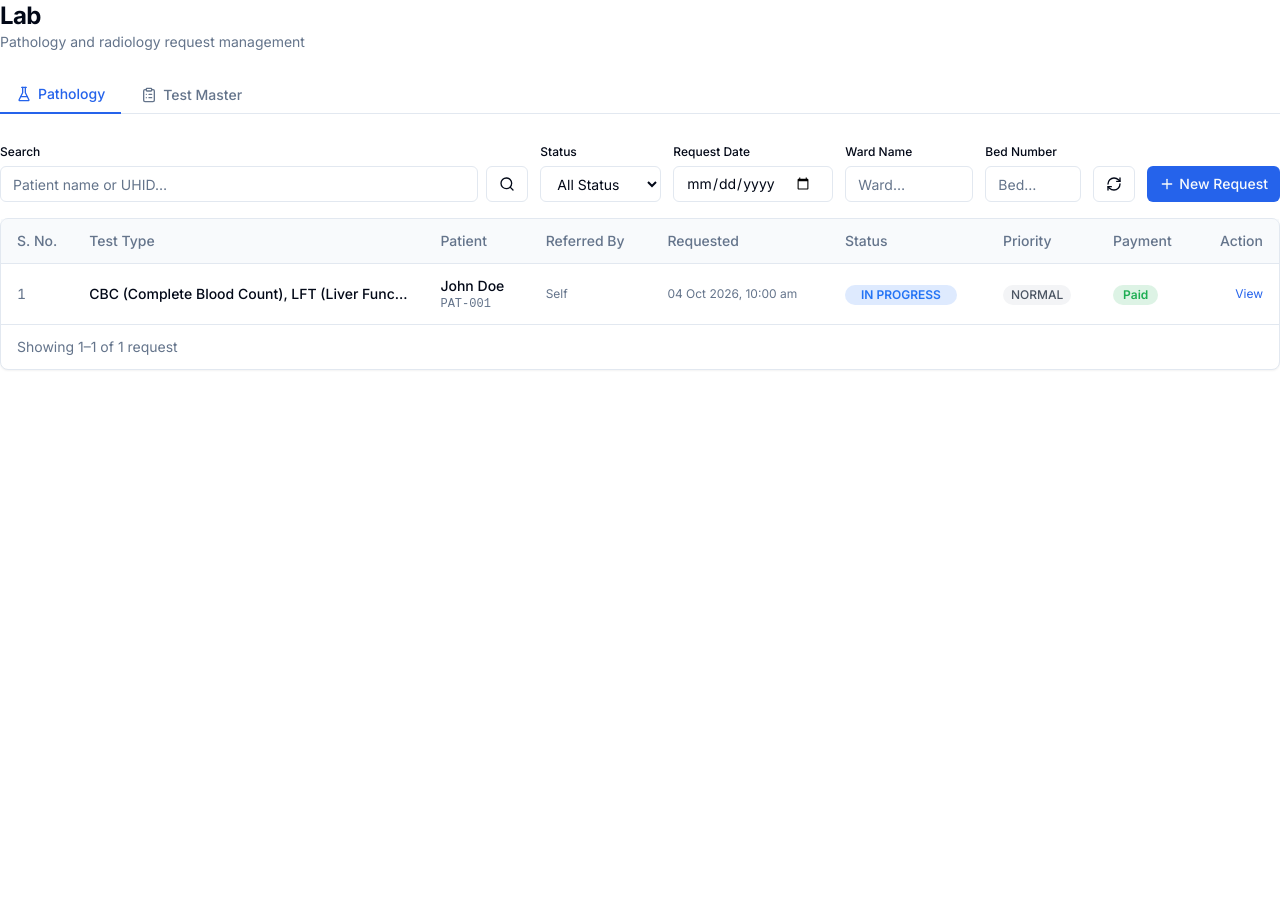
Structured report-entry forms (lab staff) › an entirely empty form is not submitted
The image size is (1280, 900).
Click the button "View" at (1249, 294), box top-left (1235, 286), bottom-right (1263, 302)
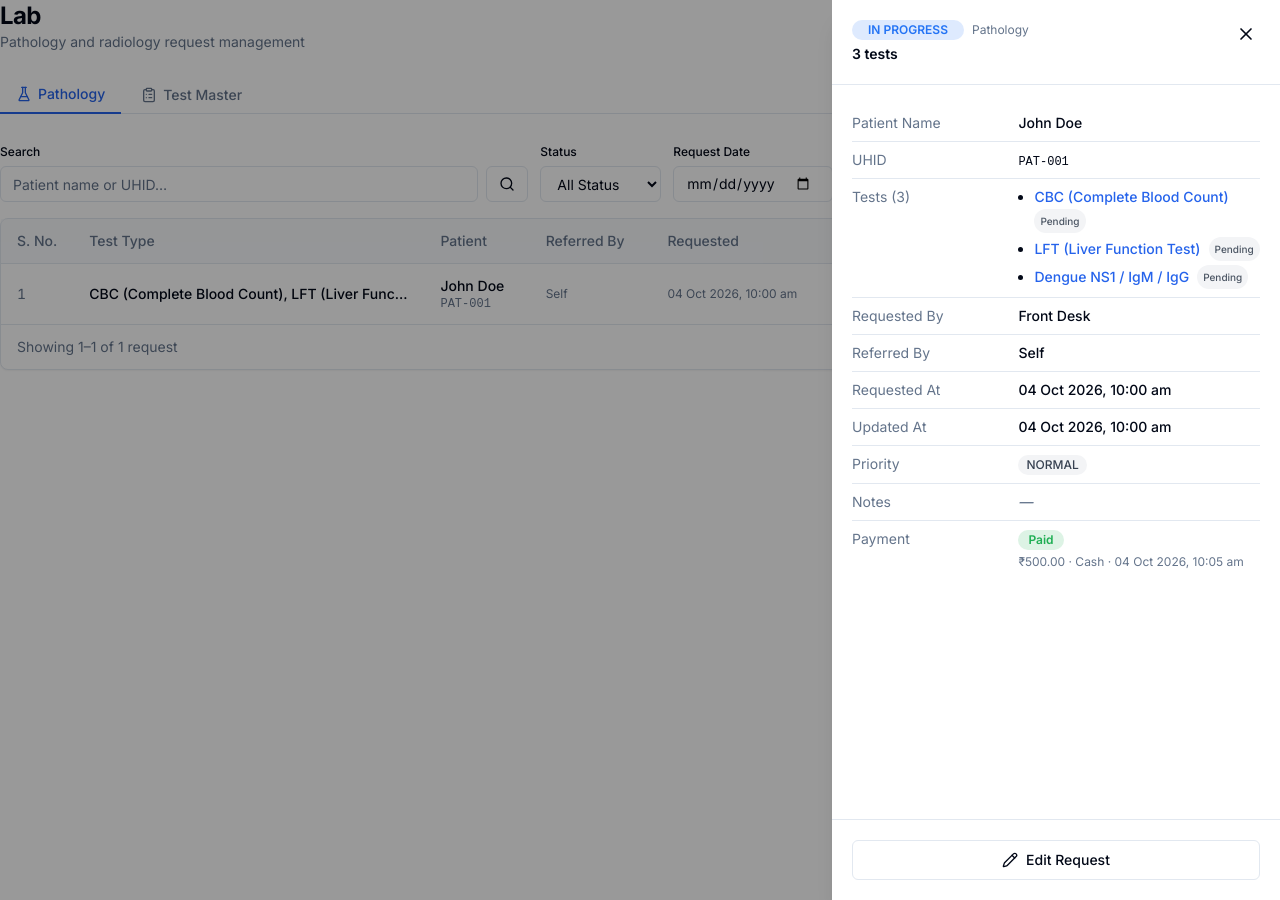
Click the button "LFT (Liver Function Test)" at (1117, 249), box top-left (1034, 239), bottom-right (1200, 259)
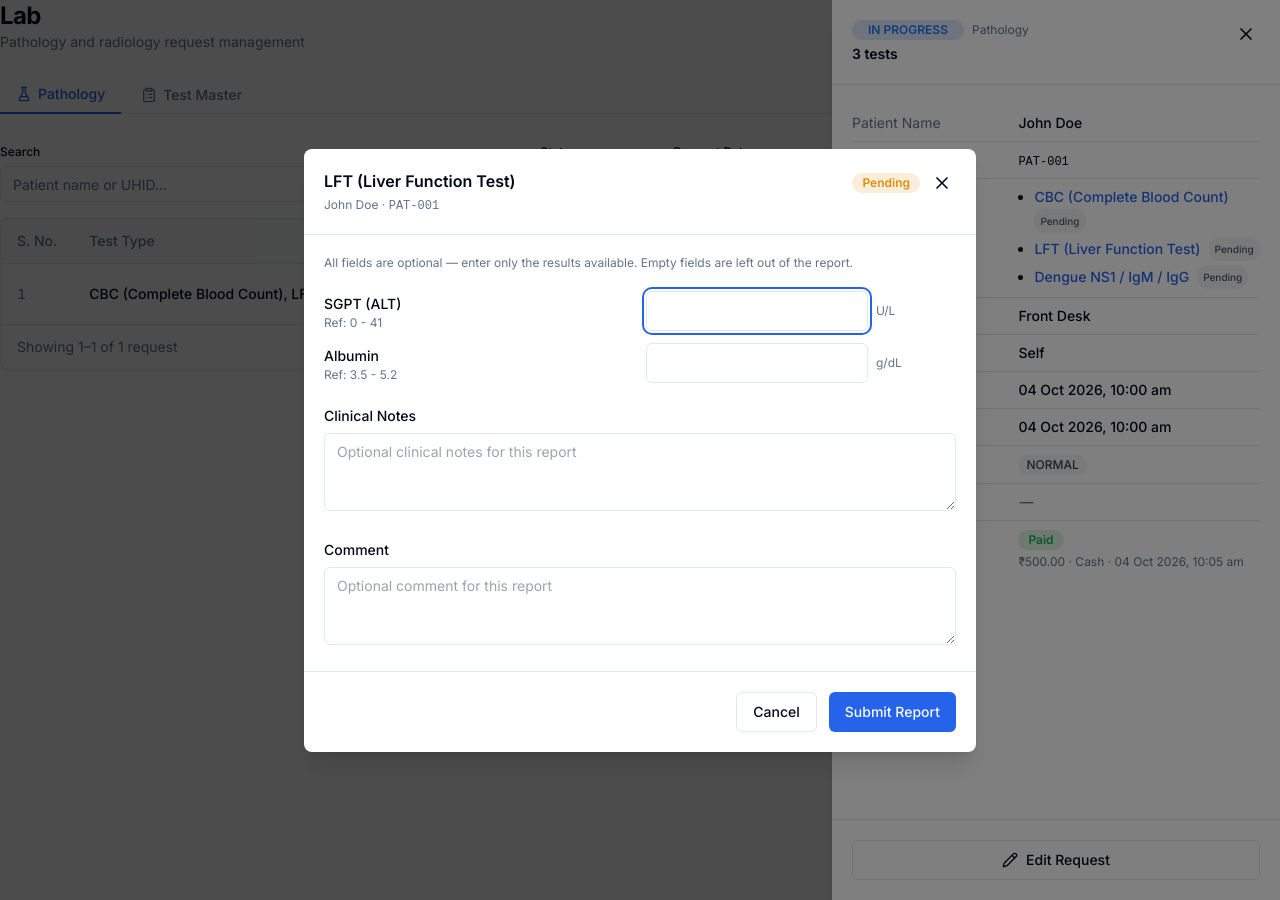
Click the button "Submit Report" at (892, 712), box top-left (829, 692), bottom-right (956, 732)
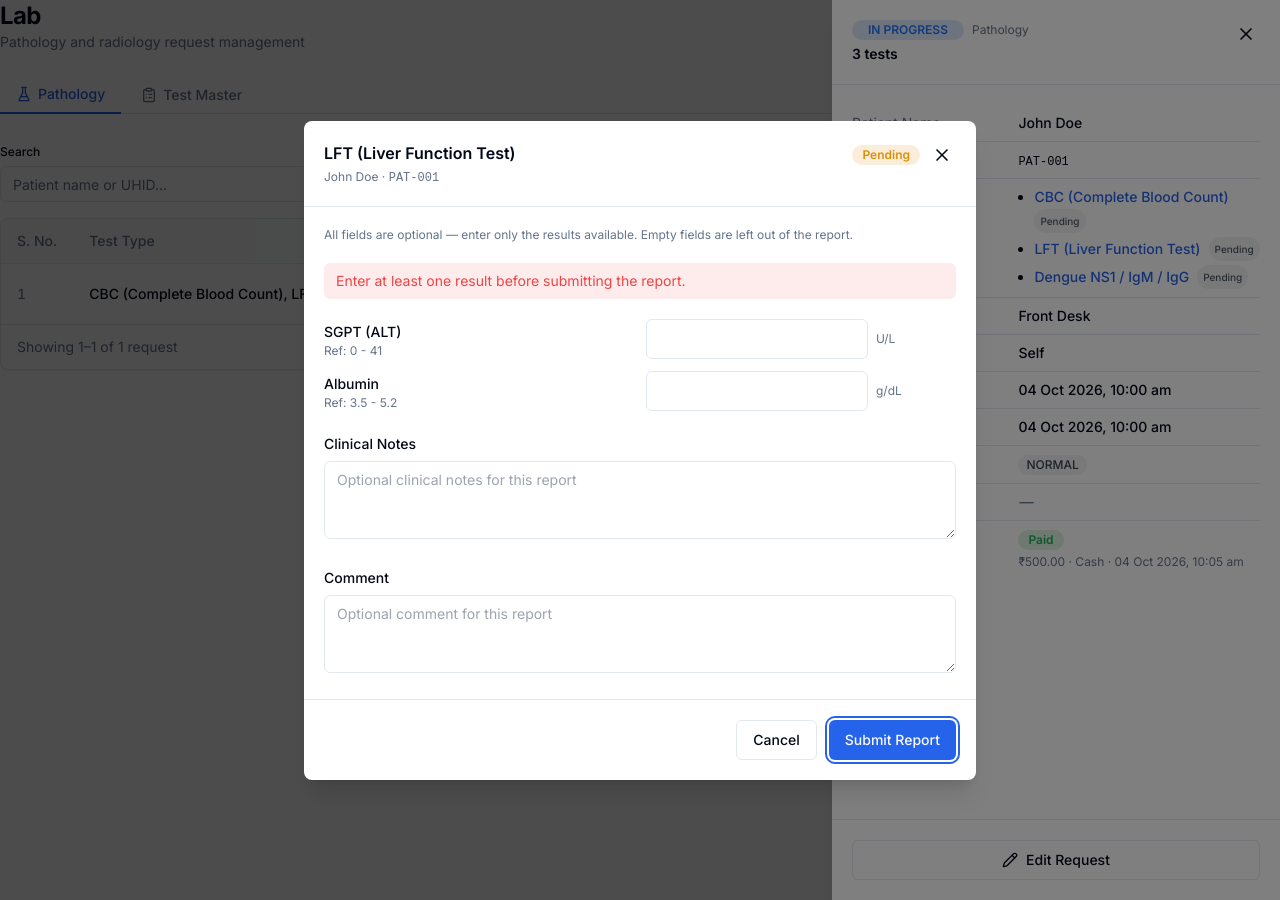
Expected: the text "Enter at least one result before submitting the report." is shown, top-left (324, 262), bottom-right (956, 298)
